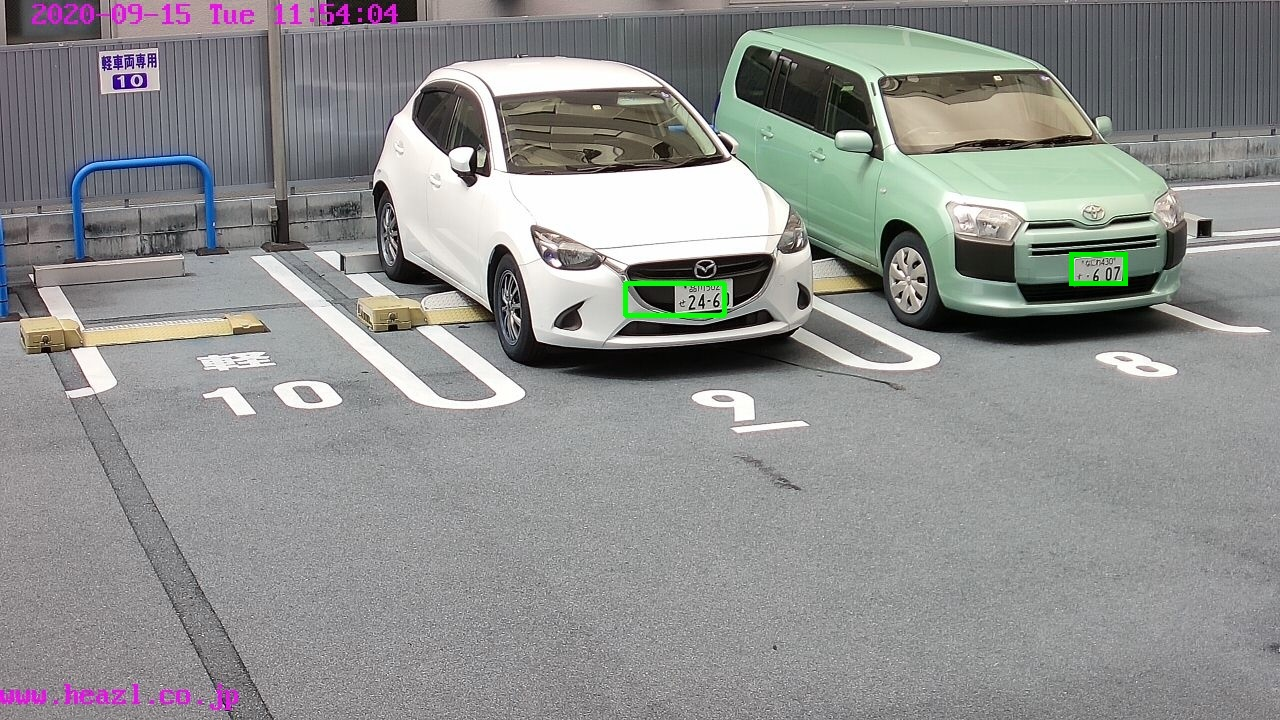number_plate: (674, 280, 736, 313), (1070, 252, 1128, 286)
